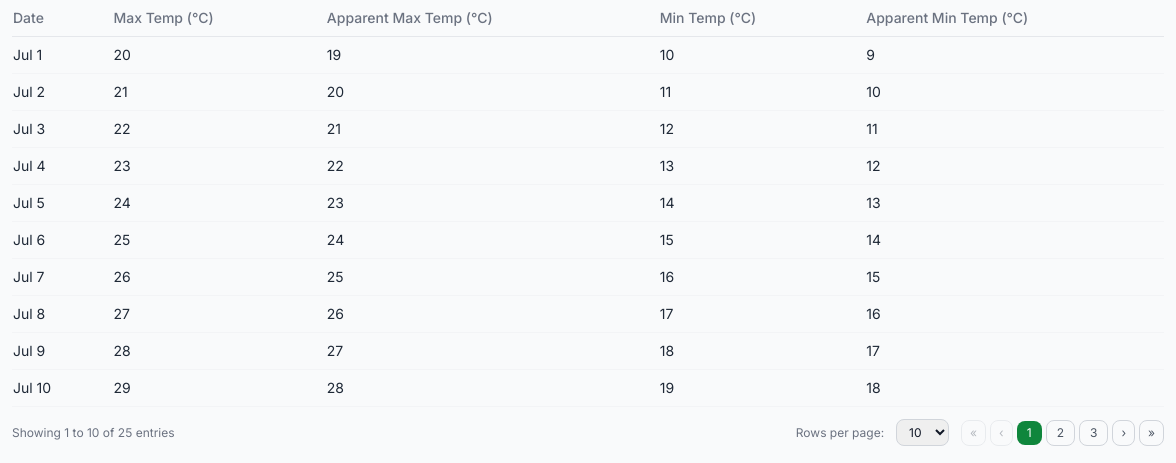
Test: WeatherTable › navigates to the next page
This screenshot has width=1176, height=463.
Step 1. Click the button named "next page" → point(1124, 432), box left=1112, top=420, right=1135, bottom=446
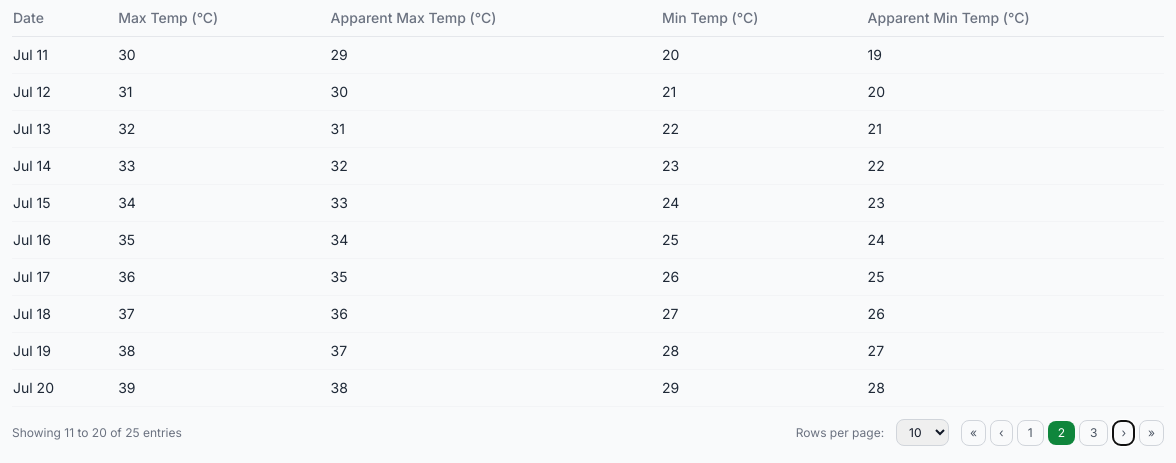
Now the text "Showing 11 to 20 of 25 entries" is shown, box left=12, top=424, right=182, bottom=440
